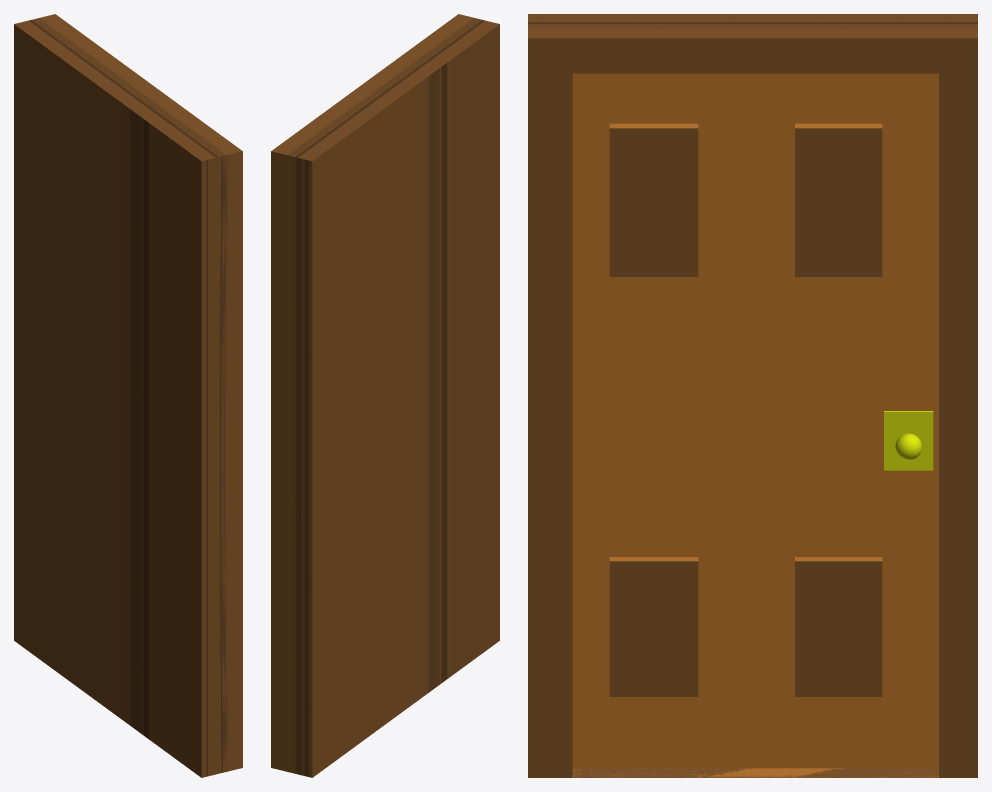
File: puerta.fbx
The picture shows the model from 3 angles, left to right: view 1: azimuth 30°, elevation 25°; view 2: azimuth 150°, elevation 25°; view 3: azimuth 270°, elevation 25°; orthographic projection. The views are drawn at different scales.
Parts seen in each view (by area): view 1: Cube.005; view 2: Cube.005; view 3: Cube.005.
Part boxes in pixels (box(x1,y1,x2,y2)): Cube.005: box(14, 14, 242, 777); Cube.005: box(271, 14, 499, 777); Cube.005: box(528, 14, 977, 777).
Bounding box in the file's own units: 17.49 × 223 × 123.
